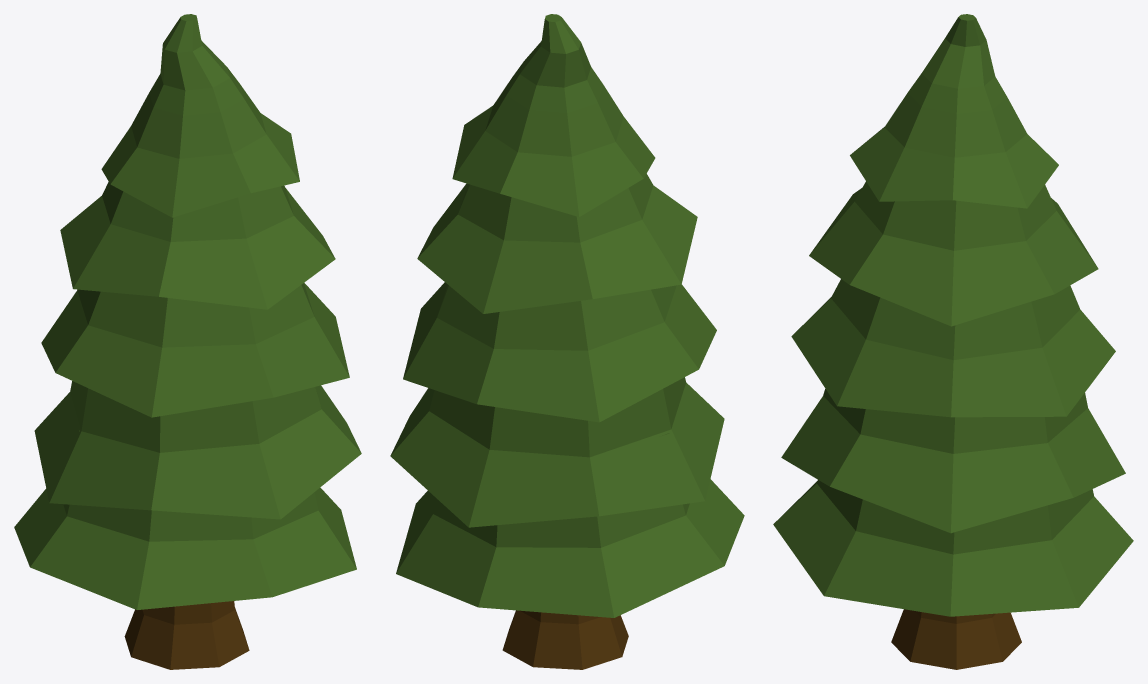
File: arbol.fbx
3 renders of one model, left to right at view 1: azimuth 30°, elevation 25°; view 2: azimuth 150°, elevation 25°; view 3: azimuth 270°, elevation 25°, orthographic.
Parts seen in each view (by area): view 1: Cylinder.012; view 2: Cylinder.012; view 3: Cylinder.012.
Part boxes in pixels (left/top/right/bottom): Cylinder.012: left=14, top=14, right=361, bottom=669; Cylinder.012: left=390, top=14, right=744, bottom=669; Cylinder.012: left=773, top=14, right=1133, bottom=669.
Size of the model in its own units: 561 by 1059 by 551.
